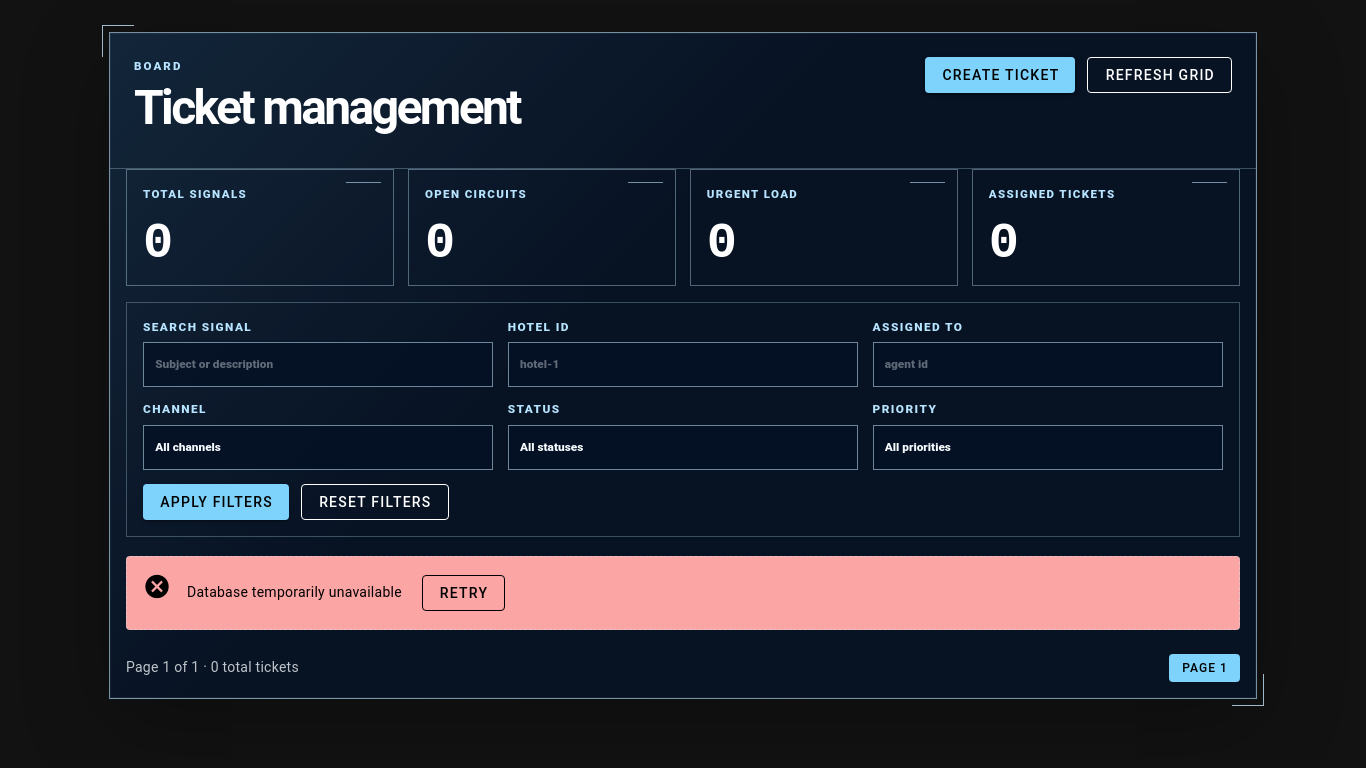
Test: TicketListView › shows a user-facing error state with a retry path on API failure
The image size is (1366, 768).
Click the button "Retry". click: (464, 593)
box: [422, 575, 505, 611]
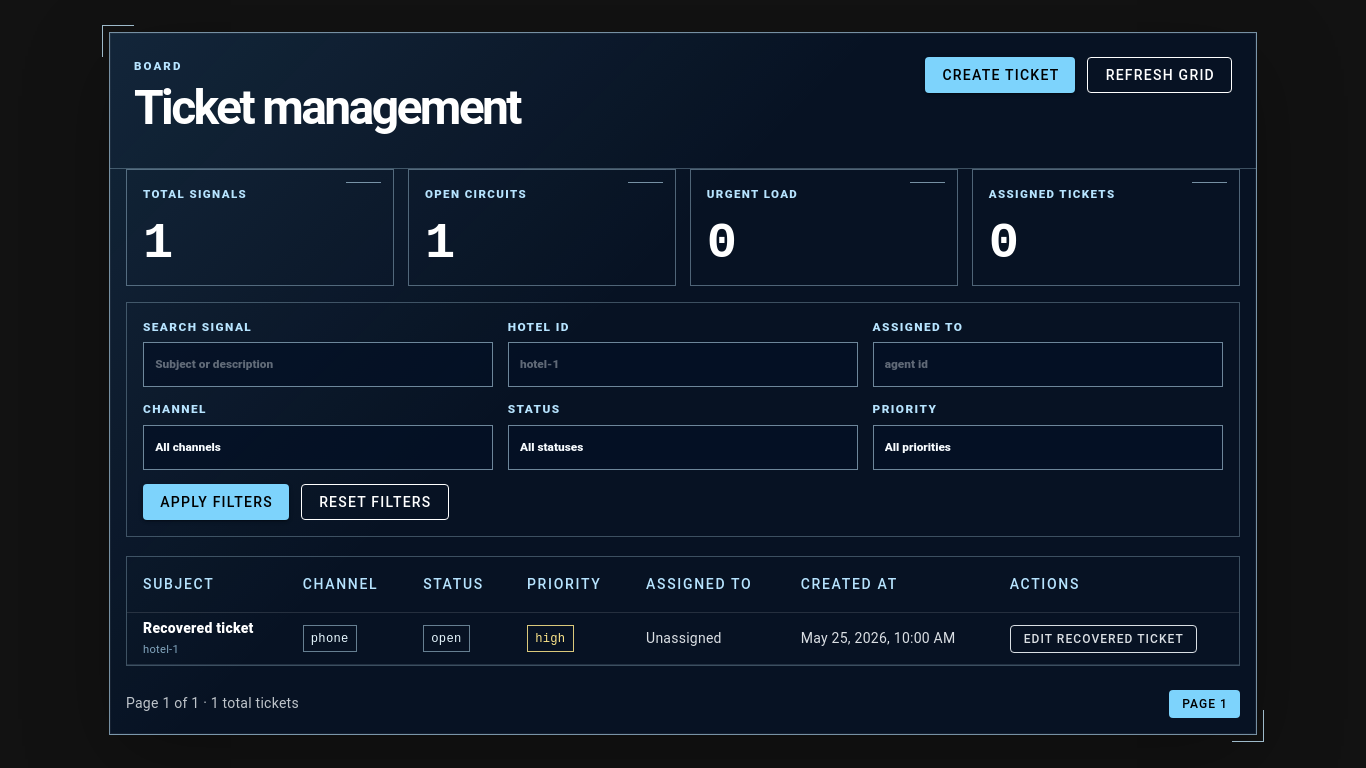
Now the text "Recovered ticket" is shown, box [143, 618, 271, 639]
